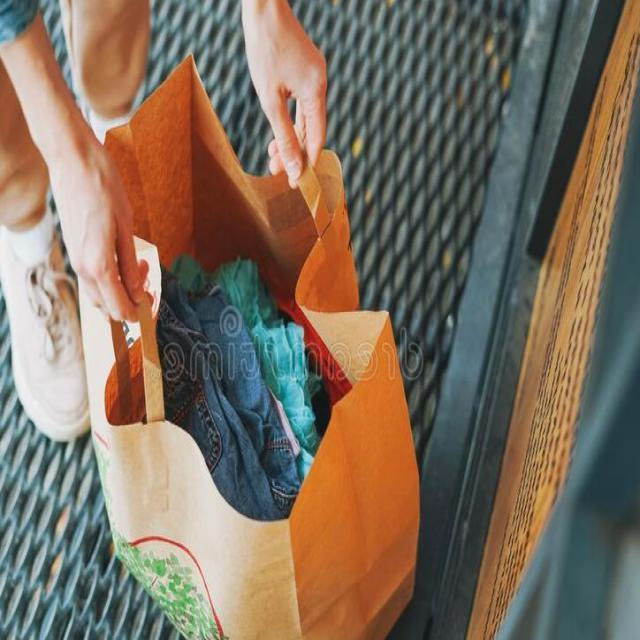clothes: (166, 270, 300, 480)
